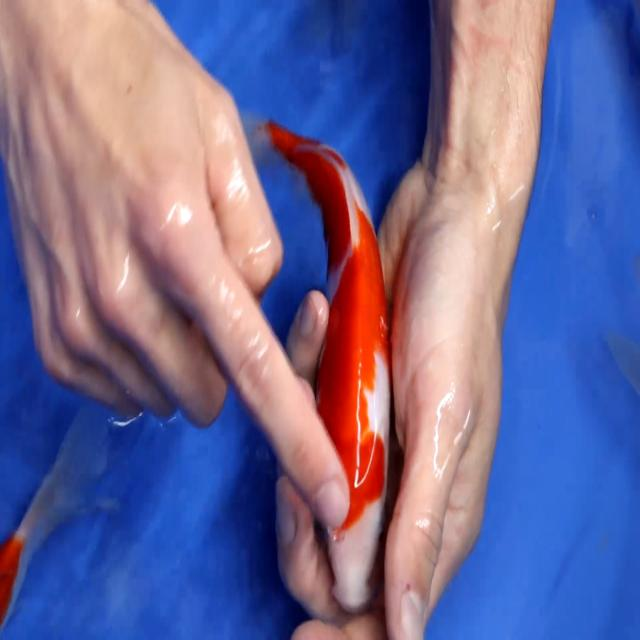Kohaku: (259, 116, 392, 611), (0, 384, 110, 624)
